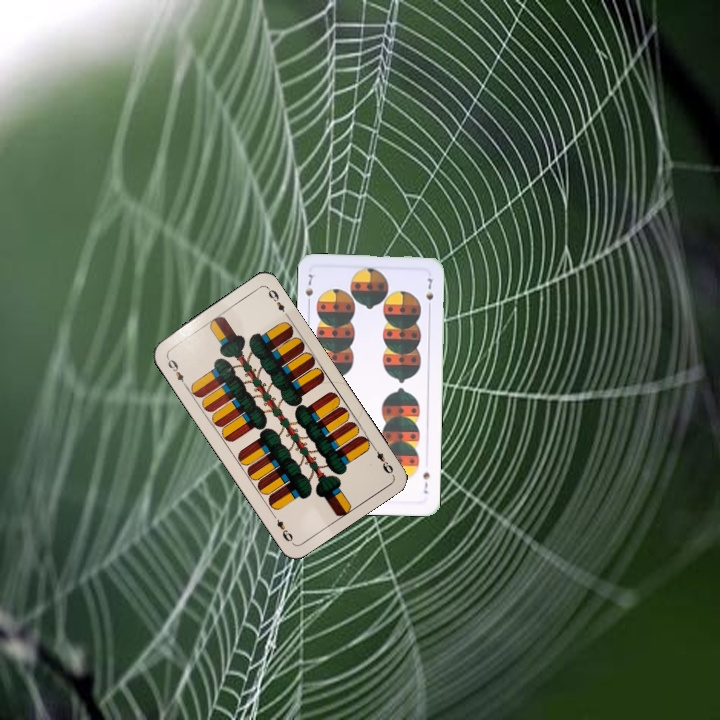E9: (368, 441, 396, 476), (163, 352, 189, 389)
S7: (301, 270, 316, 309), (419, 468, 432, 496)
